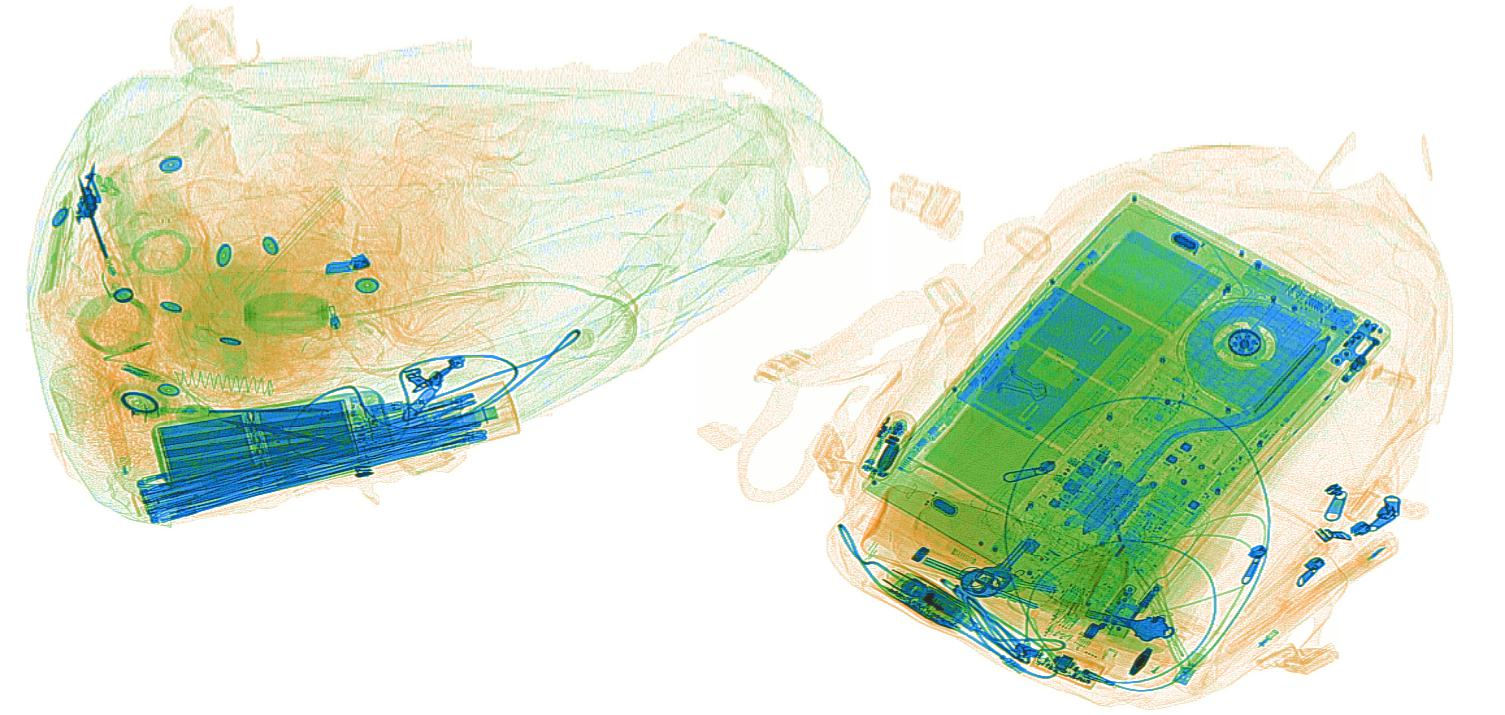battery: (150, 388, 394, 487)
